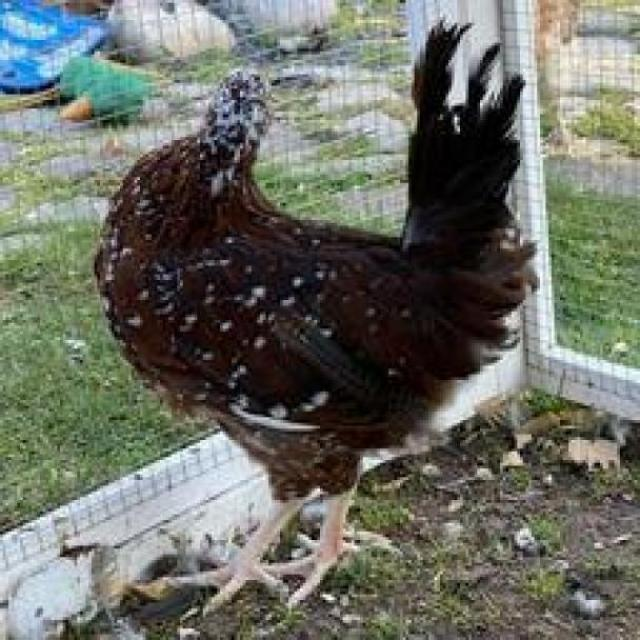Chicken: (101, 20, 600, 640)
